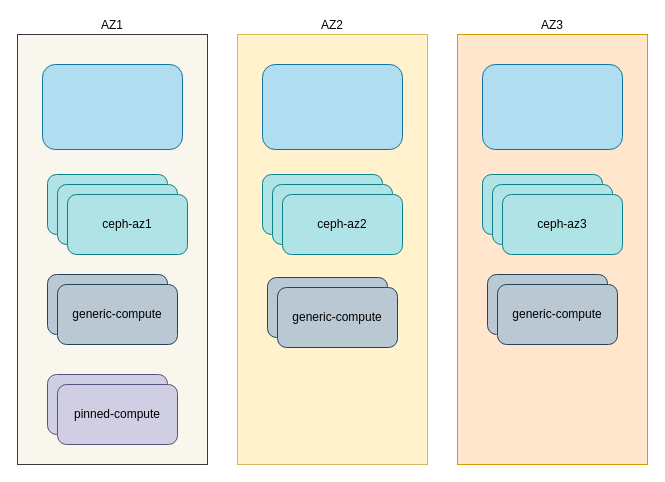
Image size: 665x482. Some labels were removed from this diagram. The shapes that lost their labels are listed below. From the top down, each one's centre as x and y in pixels, then its label:
At [112,107]: "infra01".
At [332,107]: "infra02".
At [552,107]: "infra03".
